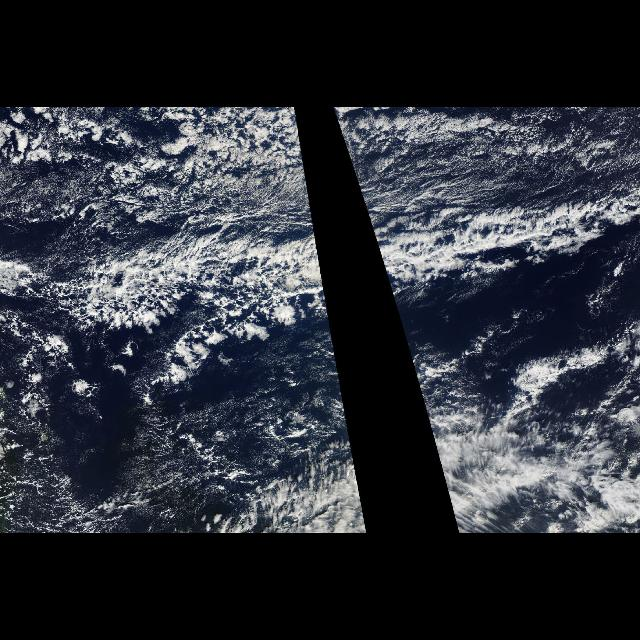Fish: (12, 181, 340, 377), (354, 181, 640, 377)
Sugar: (336, 110, 636, 222), (9, 404, 259, 530), (226, 117, 314, 223)
